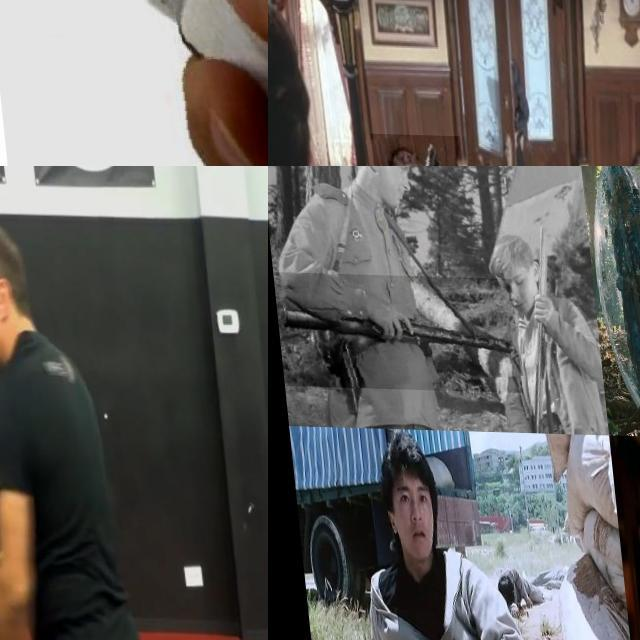-: (0, 0, 268, 166)
gun-knife-thesis - v11 Yolov5 augmented: (269, 272, 516, 392)
